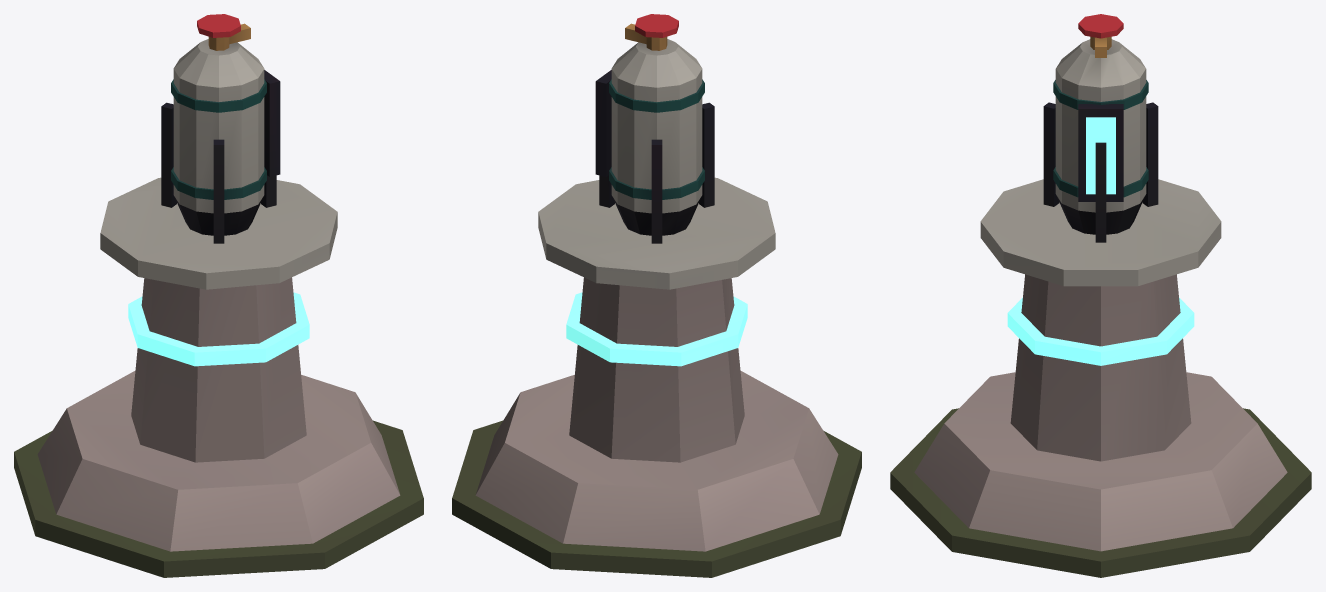
Rendered from prop.cure-canister-pedestal.lod1.glb.
The picture shows the model from 3 angles, left to right: view 1: azimuth 30°, elevation 25°; view 2: azimuth 150°, elevation 25°; view 3: azimuth 270°, elevation 25°; orthographic projection.
Visible parts, largest first — view 1: body; view 2: body; view 3: body.
Boxes of the visible parts, x1=… form: body: x1=14, y1=14, x2=423, y2=577; body: x1=452, y1=14, x2=861, y2=577; body: x1=890, y1=14, x2=1311, y2=577.
Bounding box in the file's own units: 1.4 × 1.71 × 1.4.
